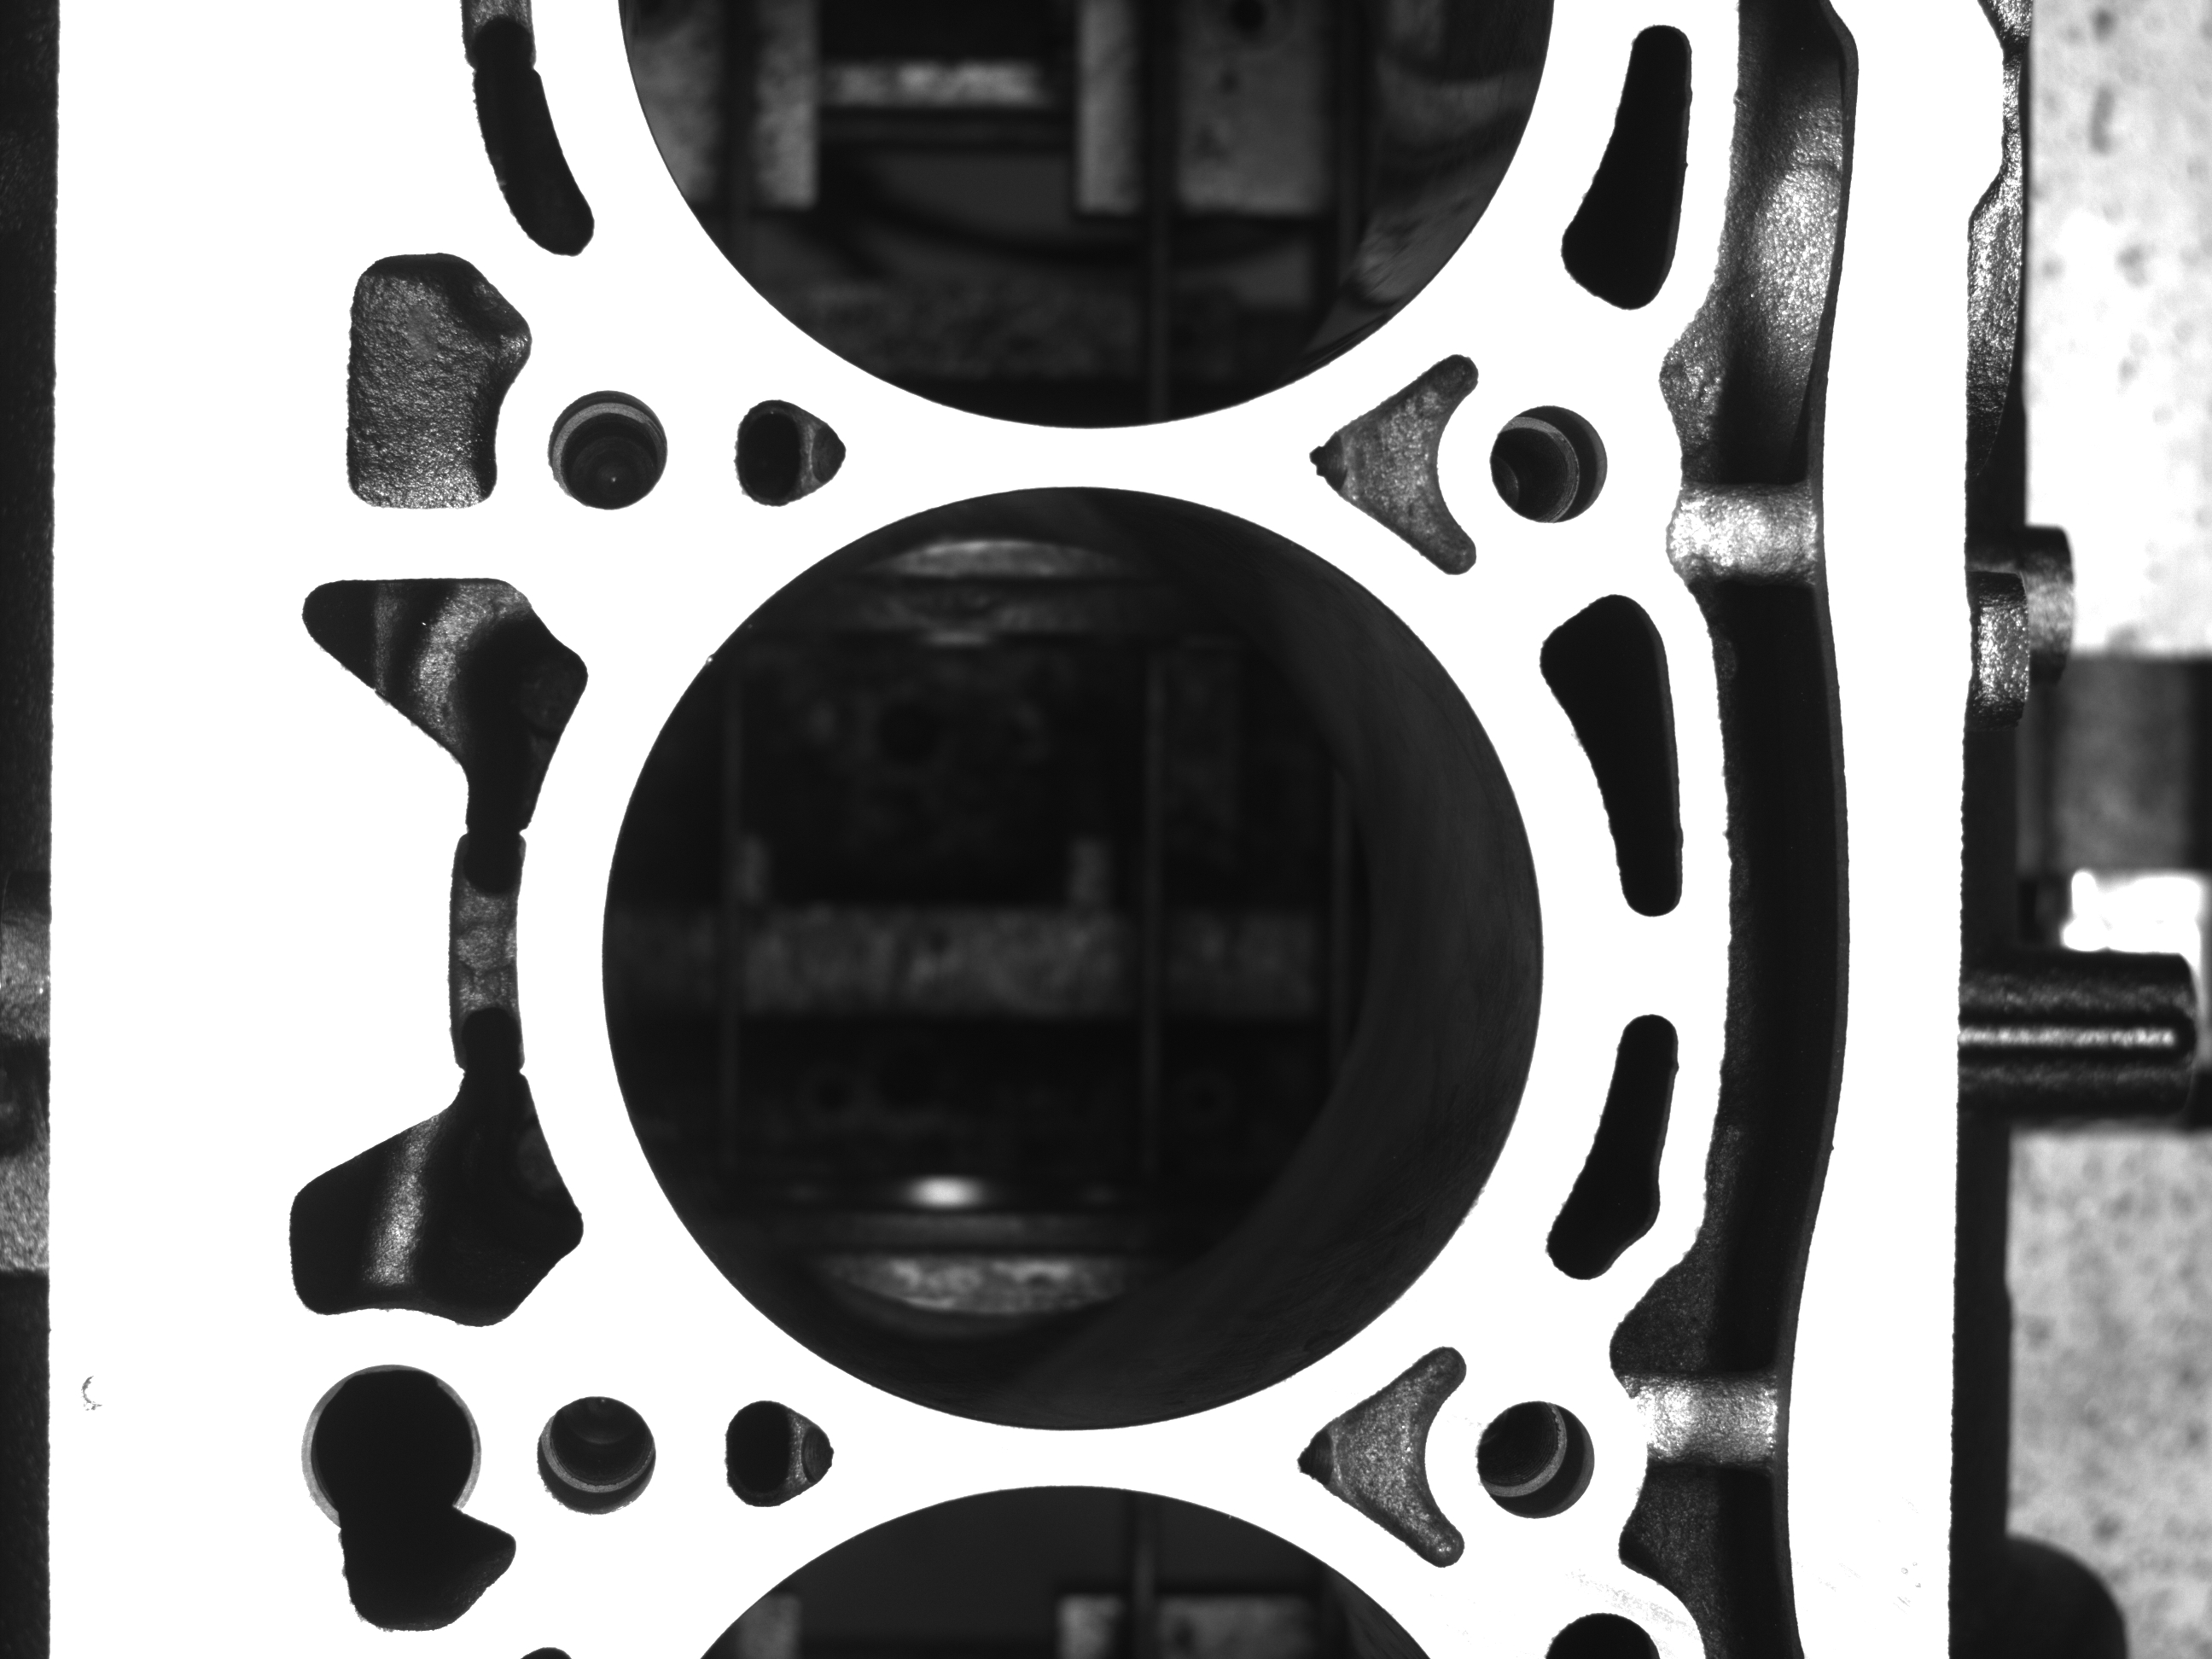shrinkage: (68, 1356, 134, 1432)
